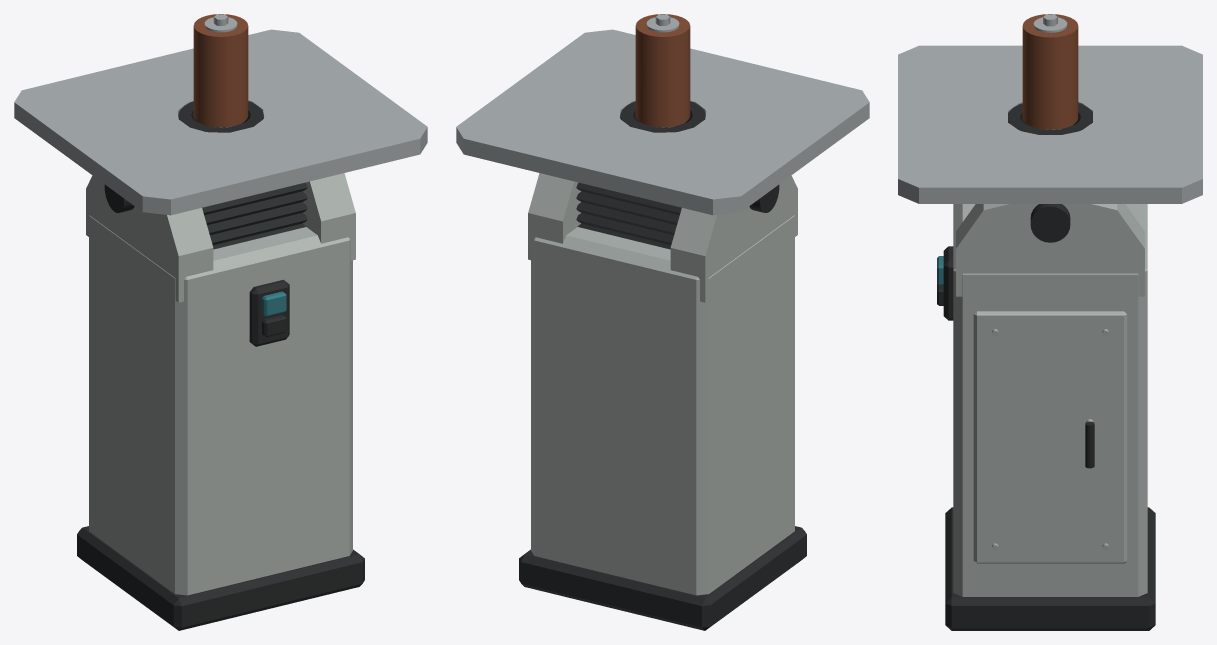
3 renders of one model, left to right at view 1: azimuth 30°, elevation 25°; view 2: azimuth 150°, elevation 25°; view 3: azimuth 270°, elevation 25°, orthographic. The views are drawn at different scales.
Visible parts, largest first — view 1: Tall closed cabinet, Clipped corner worktable with real opening, Black continuous floor plinth, Rounded table shoulder -0.16, Single thick abrasive drum, Continuous corrugated spindle shield, Rounded table shoulder 0.16, Front switch housing, Stepped circular table insert; view 2: Tall closed cabinet, Clipped corner worktable with real opening, Black continuous floor plinth, Rounded table shoulder -0.16, Single thick abrasive drum, Continuous corrugated spindle shield, Rounded table shoulder 0.16, Stepped circular table insert; view 3: Clipped corner worktable with real opening, Right service panel, Tall closed cabinet, Rounded table shoulder 0.16, Black continuous floor plinth, Single thick abrasive drum, Side table lock knob 0.226, Stepped circular table insert, Front switch housing, Right panel handle.
Boxes of the visible parts, x1,y1,x2,y2 form: Tall closed cabinet: [89, 215, 352, 595]; Clipped corner worktable with real opening: [14, 29, 427, 215]; Black continuous floor plinth: [77, 526, 364, 630]; Rounded table shoulder -0.16: [86, 175, 213, 302]; Single thick abrasive drum: [193, 14, 248, 127]; Continuous corrugated spindle shield: [202, 182, 307, 249]; Rounded table shoulder 0.16: [302, 173, 355, 260]; Front switch housing: [249, 279, 289, 346]; Stepped circular table insert: [178, 101, 263, 132]; Tall closed cabinet: [531, 215, 794, 595]; Clipped corner worktable with real opening: [456, 29, 869, 215]; Black continuous floor plinth: [519, 526, 806, 630]; Rounded table shoulder -0.16: [670, 175, 797, 302]; Single thick abrasive drum: [635, 14, 690, 127]; Continuous corrugated spindle shield: [576, 182, 681, 249]; Rounded table shoulder 0.16: [528, 173, 581, 260]; Stepped circular table insert: [620, 101, 705, 132]; Clipped corner worktable with real opening: [898, 45, 1202, 203]; Right service panel: [973, 311, 1127, 563]; Tall closed cabinet: [953, 204, 1147, 596]; Rounded table shoulder 0.16: [956, 204, 1144, 296]; Black continuous floor plinth: [945, 507, 1155, 630]; Single thick abrasive drum: [1022, 14, 1078, 129]; Side table lock knob 0.226: [1030, 204, 1070, 242]; Stepped circular table insert: [1008, 103, 1092, 134]; Front switch housing: [943, 246, 953, 320]; Right panel handle: [1085, 421, 1094, 468].
Size of the model in its own units: 64 by 119 by 58.
